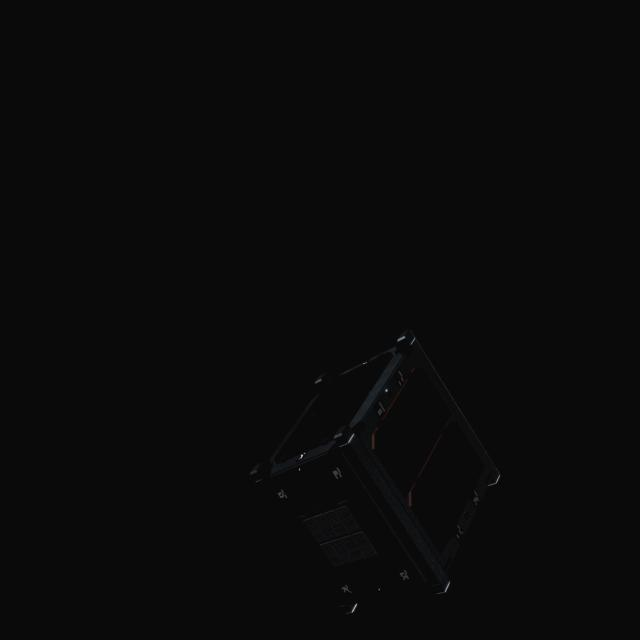medium_debris: (233, 333, 525, 625)
